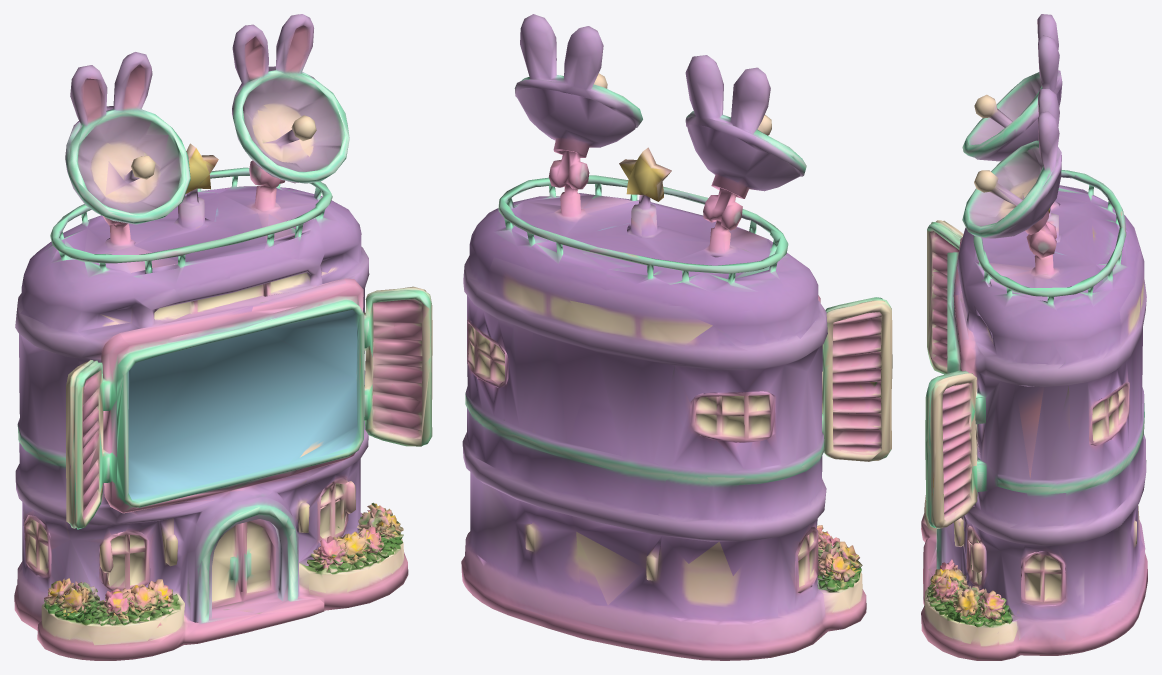
File: anime.glb
The picture shows the model from 3 angles, left to right: view 1: azimuth 30°, elevation 25°; view 2: azimuth 150°, elevation 25°; view 3: azimuth 270°, elevation 25°; orthographic projection. The views are drawn at different scales.
Parts seen in each view (by area): view 1: R03_moonvision; view 2: R03_moonvision; view 3: R03_moonvision.
Part boxes in pixels (bbox=[...]): R03_moonvision: bbox=[14, 14, 432, 660]; R03_moonvision: bbox=[461, 14, 892, 660]; R03_moonvision: bbox=[921, 14, 1147, 660].
Bounding box in the file's own units: 0.7019 × 1 × 0.3983.
1 material, 1 textured.
